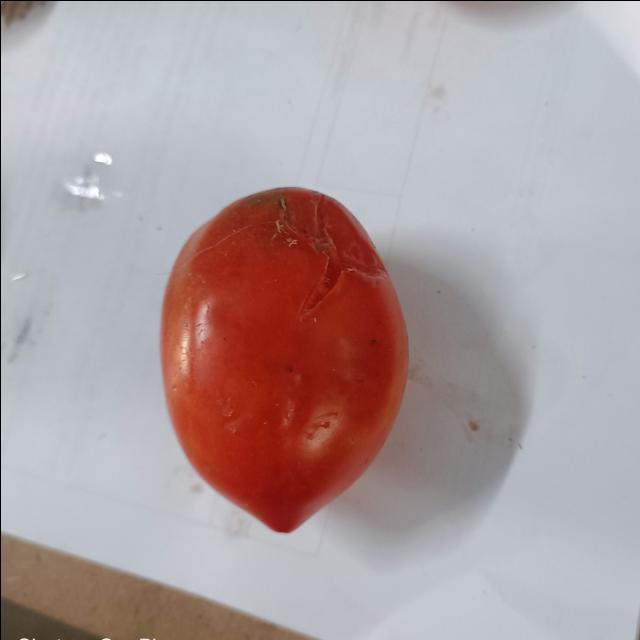Botrytis: (292, 192, 386, 316)
